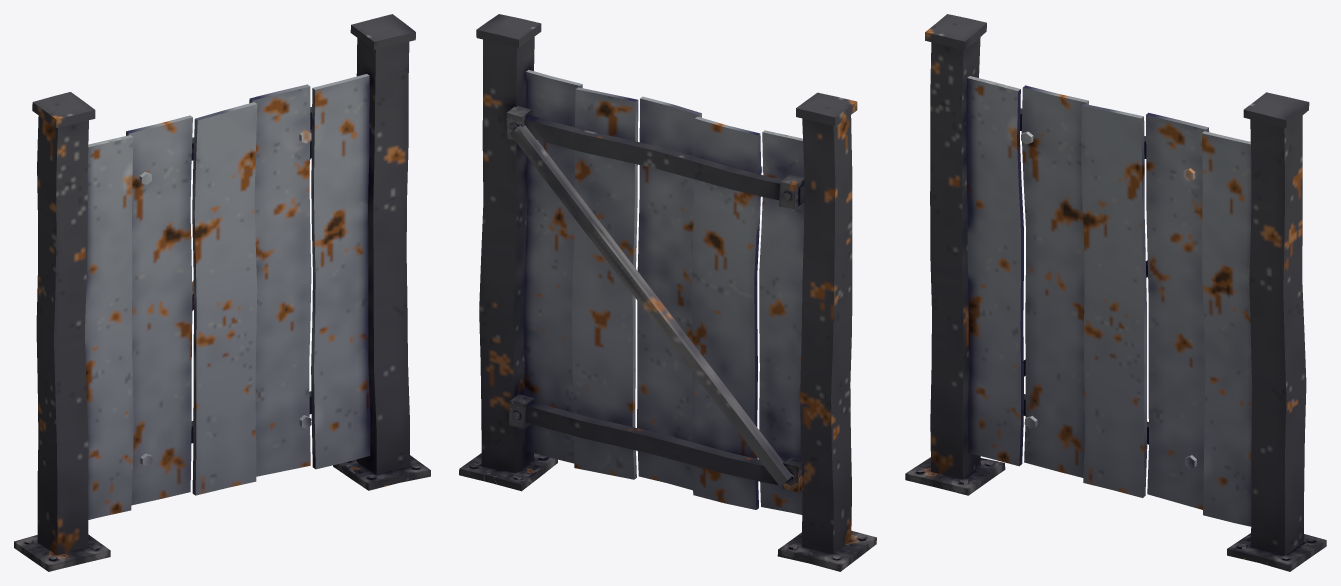
The model's file is YardFenceHalf.glb.
3 renders of one model, left to right at view 1: azimuth 30°, elevation 25°; view 2: azimuth 150°, elevation 25°; view 3: azimuth 330°, elevation 25°, orthographic.
Parts seen in each view (by area): view 1: Sheets, Posts, Fittings; view 2: Sheets, Posts, Fittings; view 3: Sheets, Posts, Fittings.
Boxes of the visible parts, x1,y1,x2,y2 form: Sheets: (85,74,370,519); Posts: (32,14,415,554); Fittings: (14,455,430,571); Sheets: (523,70,804,514); Posts: (476,14,857,554); Fittings: (459,106,876,571); Sheets: (966,76,1252,526); Posts: (925,14,1309,555); Fittings: (905,457,1326,571).
Size of the model in its own units: 4.78 by 5.34 by 0.8451.
3 materials, 3 textured.
